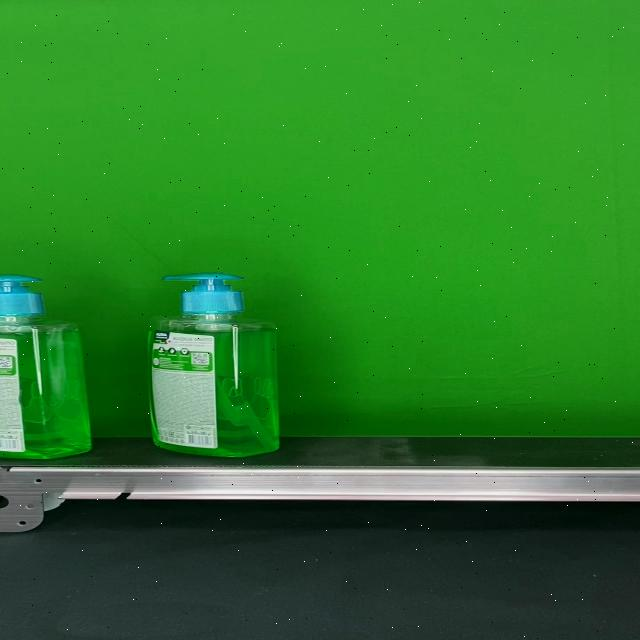Bottle: (146, 273, 280, 457)
Cap: (161, 273, 244, 314)
